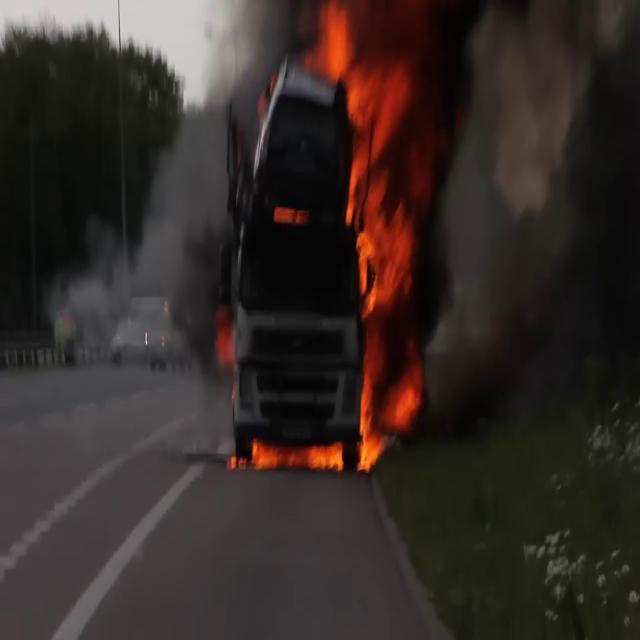Fire: (326, 7, 424, 460), (247, 426, 347, 476)
Smoke: (417, 0, 640, 448), (63, 92, 233, 354)
